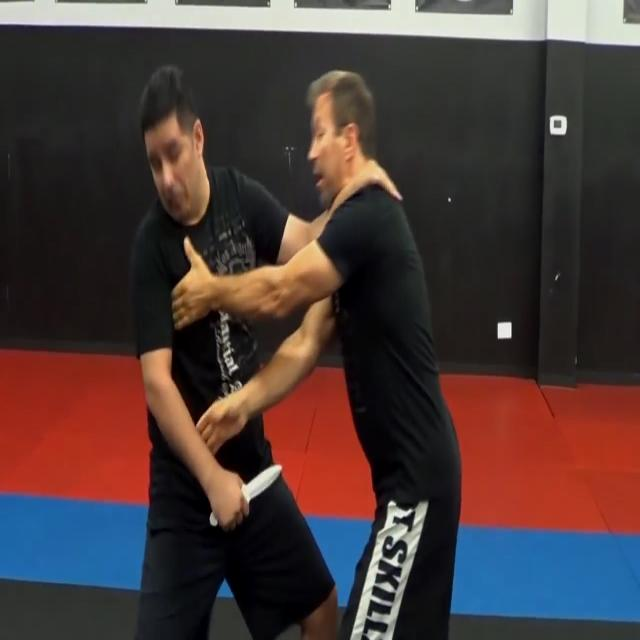knife: (208, 461, 284, 532)
